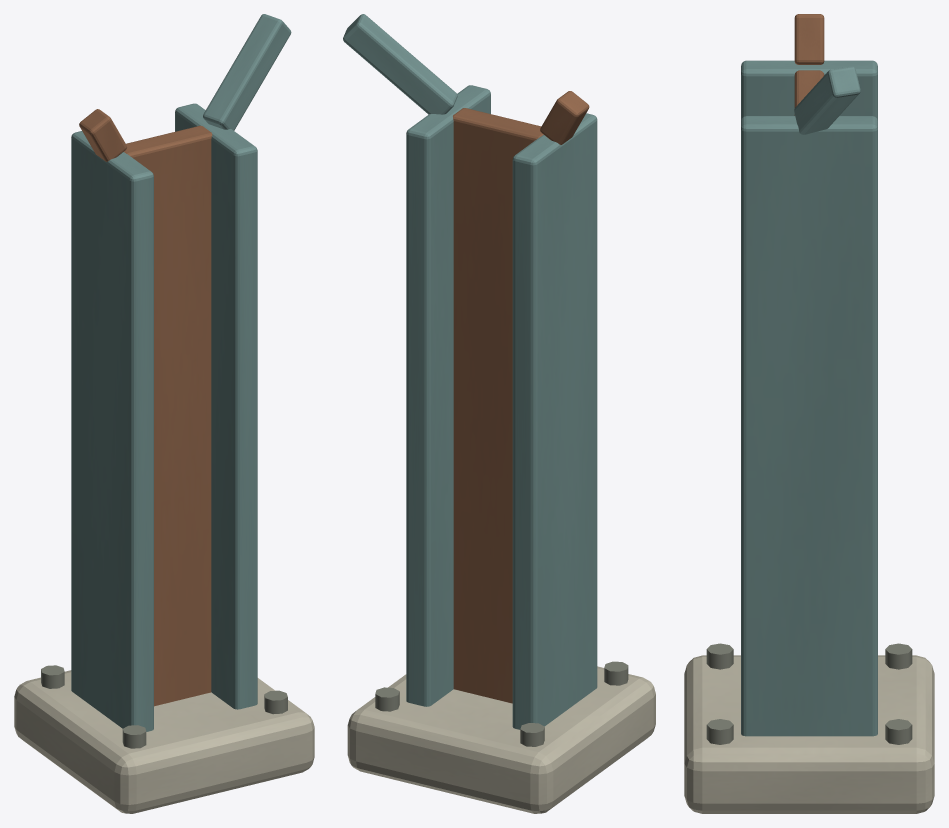
Rendered from Column_Fractured.glb.
3 views of the same model, side by side, from view 1: azimuth 30°, elevation 25°; view 2: azimuth 150°, elevation 25°; view 3: azimuth 270°, elevation 25° (orthographic). The views are drawn at different scales.
Visible parts, largest first — view 1: Column_Fractured; view 2: Column_Fractured; view 3: Column_Fractured.
Part boxes in pixels (x1=…): Column_Fractured: x1=14, y1=14, x2=314, y2=813; Column_Fractured: x1=343, y1=14, x2=655, y2=813; Column_Fractured: x1=684, y1=14, x2=934, y2=813.
Size of the model in its own units: 1.01 by 2.83 by 0.84.
Materials: 4 (3 with a texture image).
